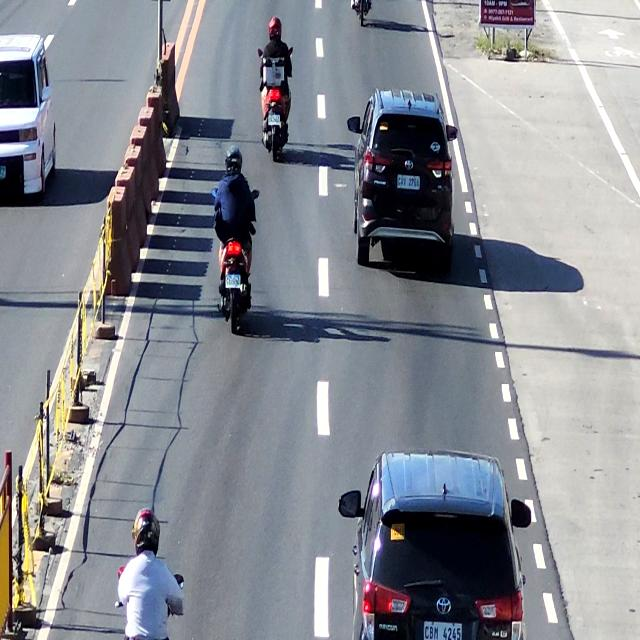Car: (343, 444, 533, 640), (354, 89, 456, 277)
License-Plate: (421, 618, 462, 640), (395, 168, 422, 196), (221, 268, 246, 290), (266, 114, 282, 130)
Motorcycle: (206, 143, 261, 334), (112, 506, 188, 640), (250, 15, 304, 168)
